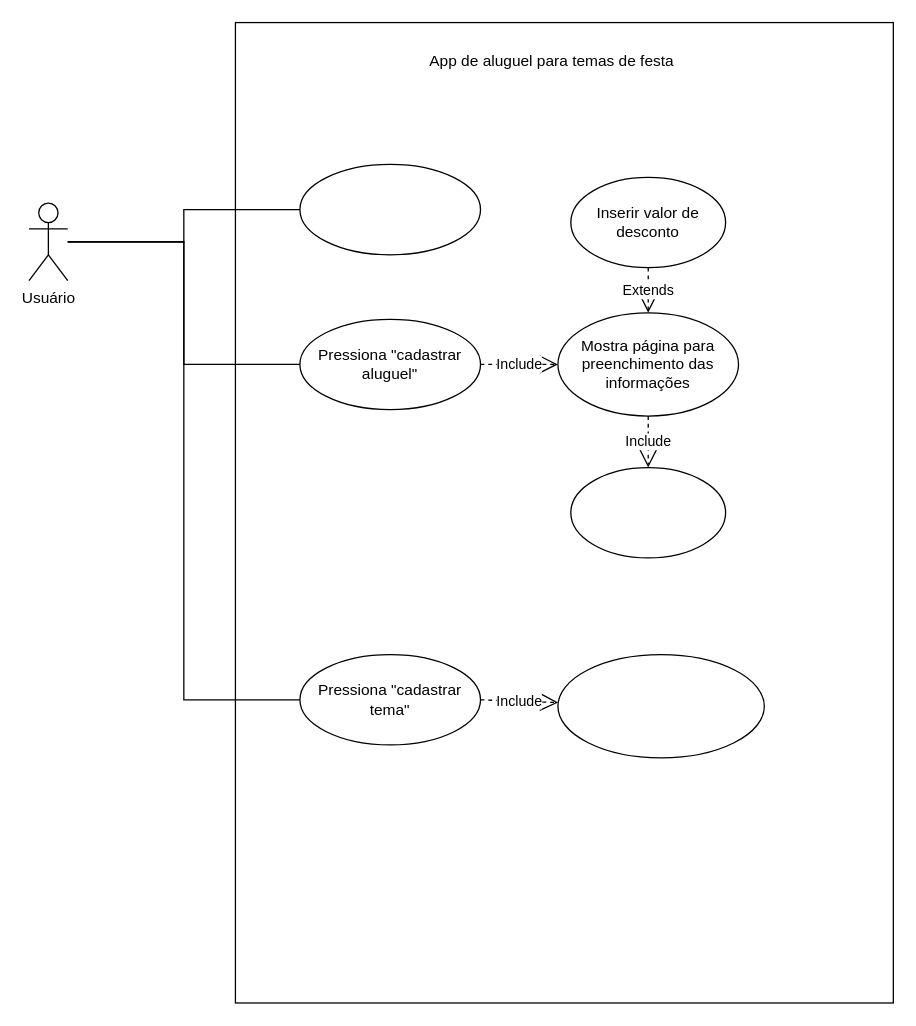
This 916x1026 diagram has some shape labels left out. The shapes that lost their labels are listed below. From the top down, each one's centre as x and y in pixels, then its label:
At (390,209): "Abre o app".
At (648,512): "Calcula valor e repassa ao cliente".
At (660,705): "Mostra página para preenchimento das informações sobre tema".
